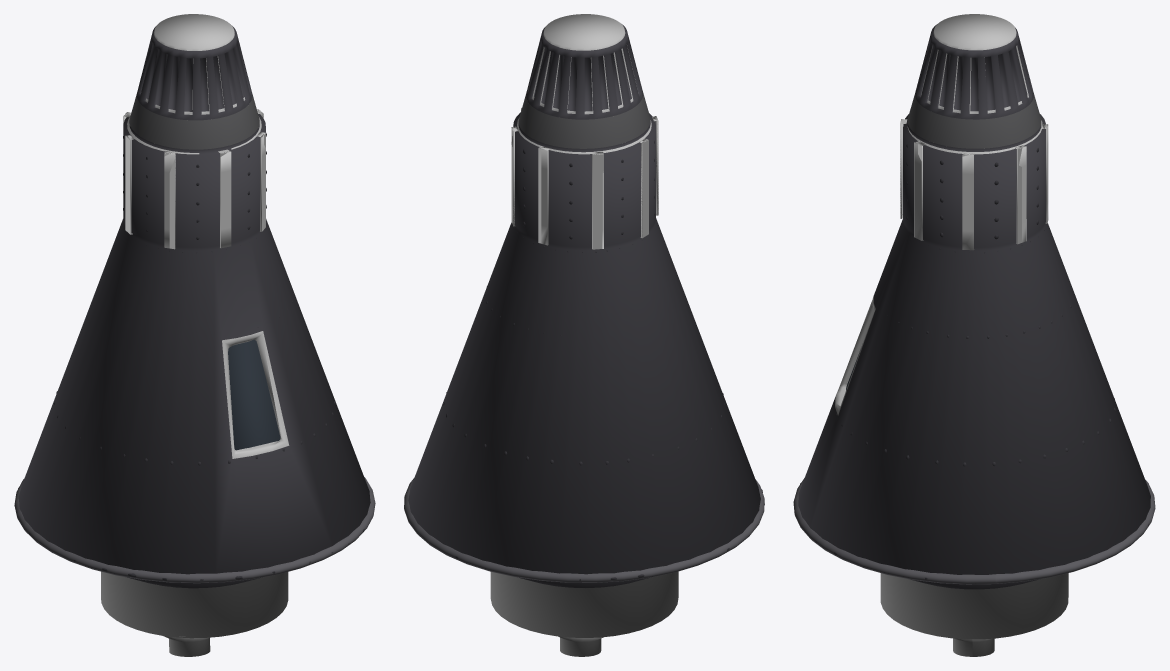
The model's file is mercury-capsule.glb.
The picture shows the model from 3 angles, left to right: view 1: azimuth 30°, elevation 25°; view 2: azimuth 150°, elevation 25°; view 3: azimuth 270°, elevation 25°; orthographic projection.
Parts seen in each view (by area): view 1: capsule; view 2: capsule; view 3: capsule.
Part boxes in pixels (x1,y1,x2,y2): capsule: (14, 14, 375, 656); capsule: (404, 14, 764, 656); capsule: (793, 14, 1155, 656).
Bounding box in the file's own units: 1.8 × 3.3 × 1.8.
Materials: 1 (1 with a texture image).
